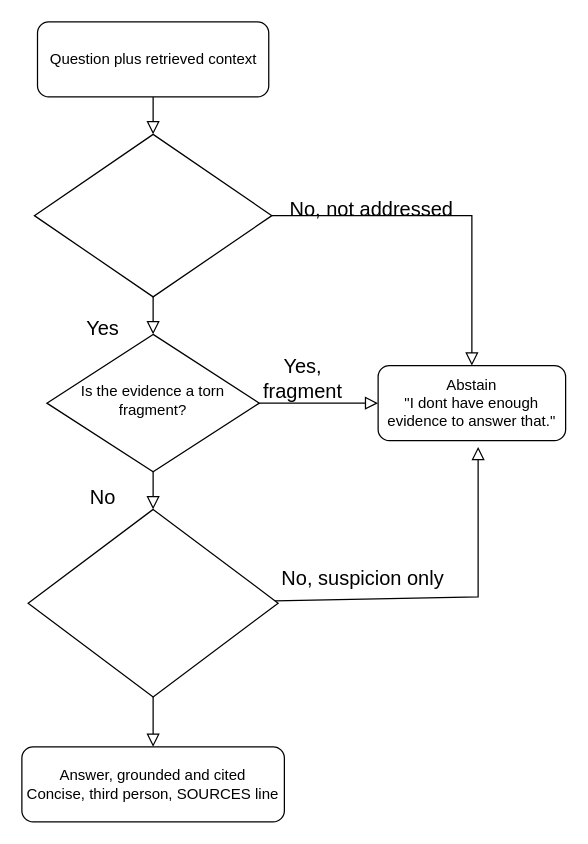
Some shapes in this 588 by 844 pixel diagram are drawn without their labels. Here are the shapes that lost their labels. From the top down, the centre of each, then its label:
At pixel 152 215: "Does context address the question?".
At pixel 152 602: "Direct explicit statement not just suspicion?".
